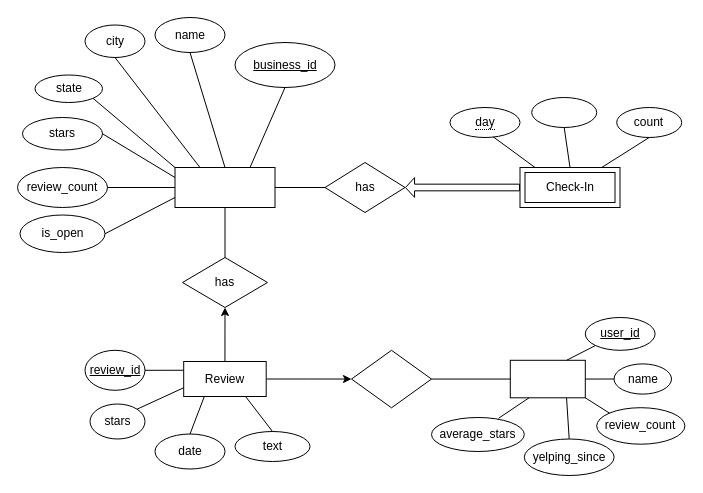
The diagram is 703 pixels wide and 493 high, and some of its shapes have lost their labels. Here are the shapes that lost their labels. From the top down, the centre of each, then its label:
At (564,112): "hour".
At (224,187): "Business".
At (391,378): "writes".
At (547,378): "User".
